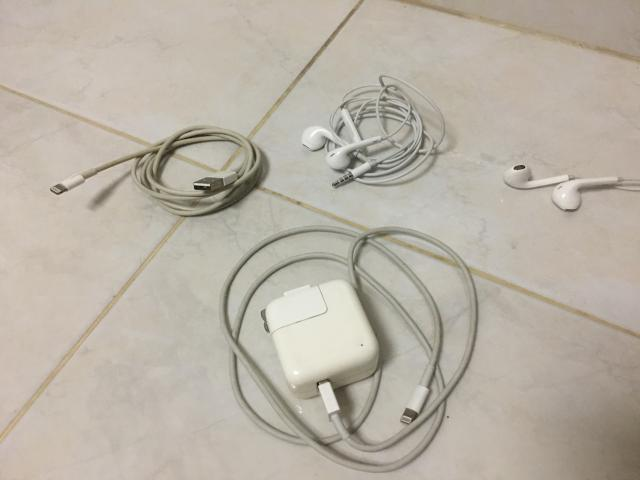wire: (219, 225, 478, 472), (50, 125, 261, 216), (301, 75, 445, 188), (504, 165, 640, 210)
